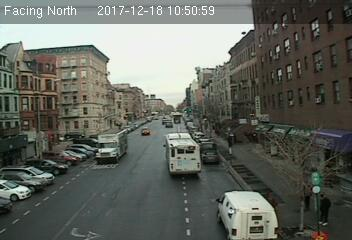bus: (164, 132, 202, 178)
car: (201, 149, 221, 163), (140, 126, 151, 135)
pedestrian: (319, 193, 331, 230)
truck: (217, 190, 279, 240), (94, 129, 127, 159)
